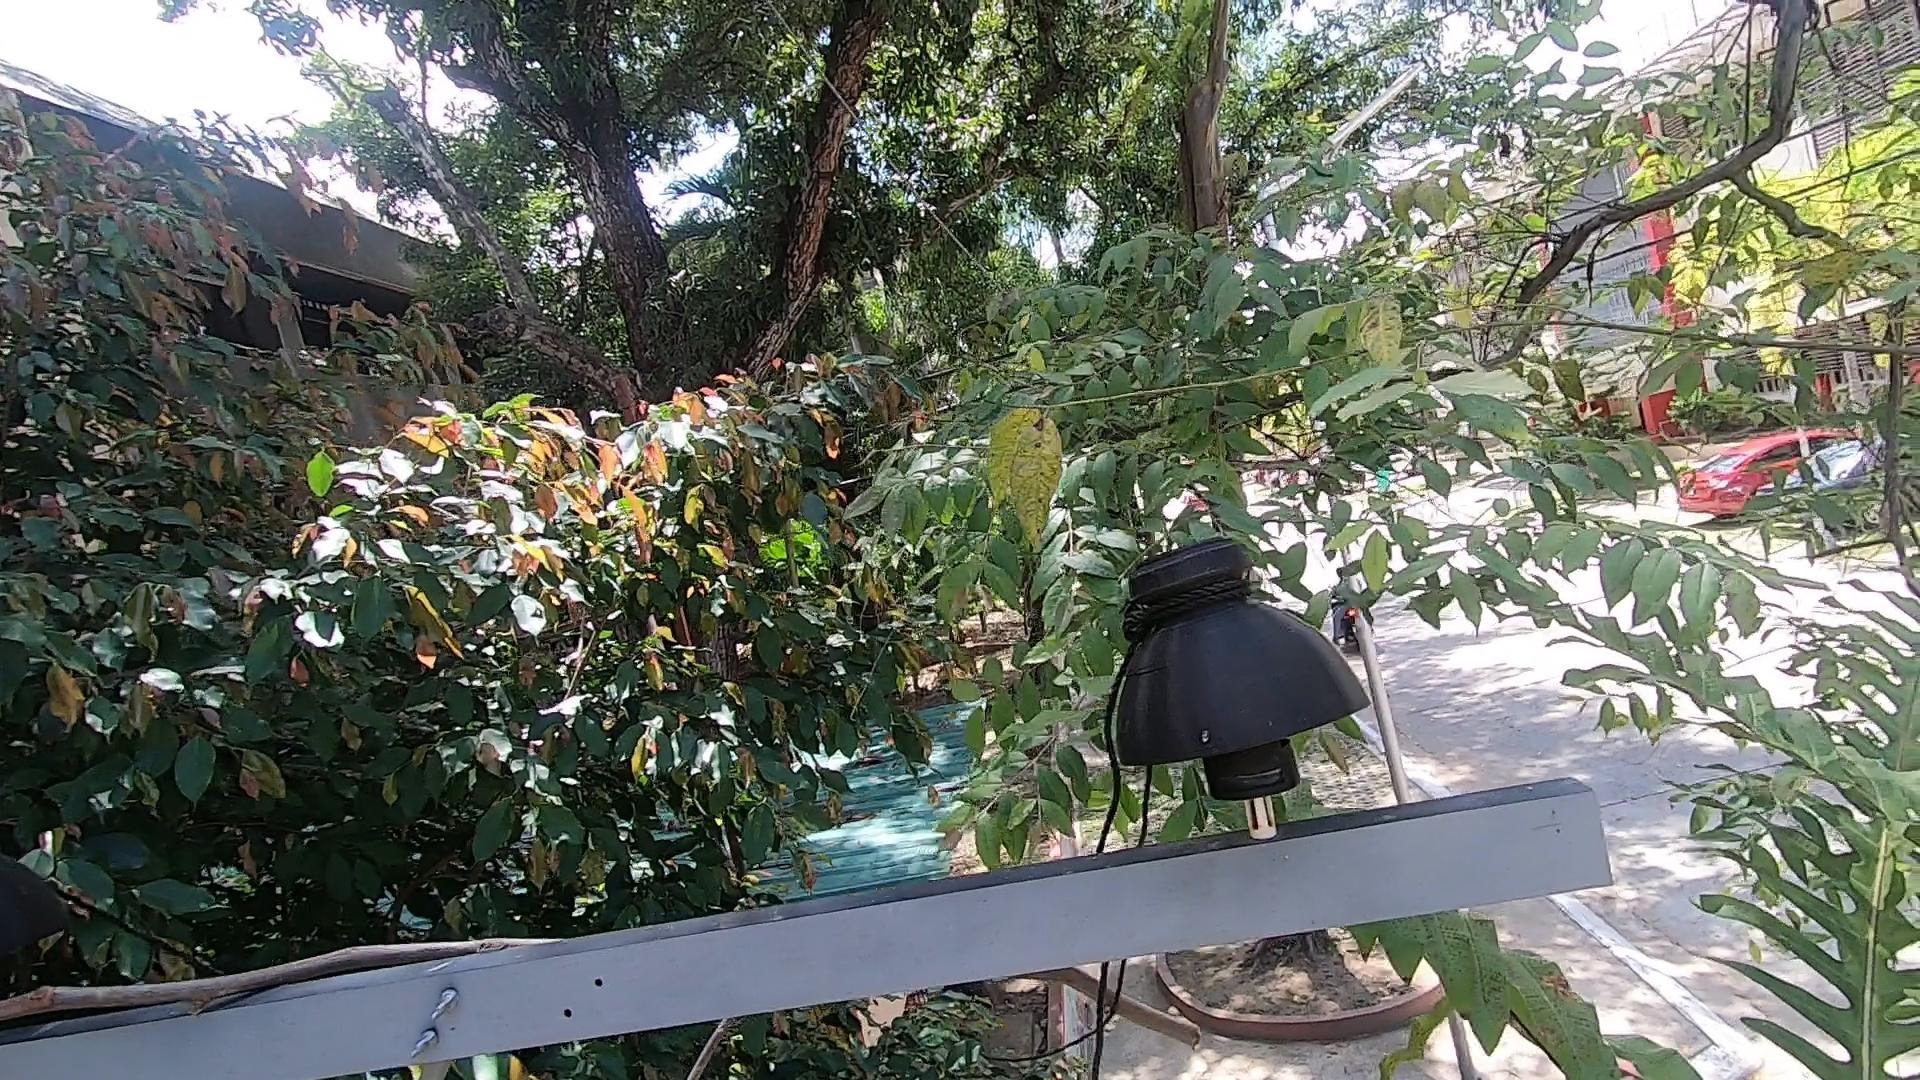tree branch: (1, 923, 555, 1043), (1011, 975, 1209, 1052), (676, 1017, 740, 1080)
